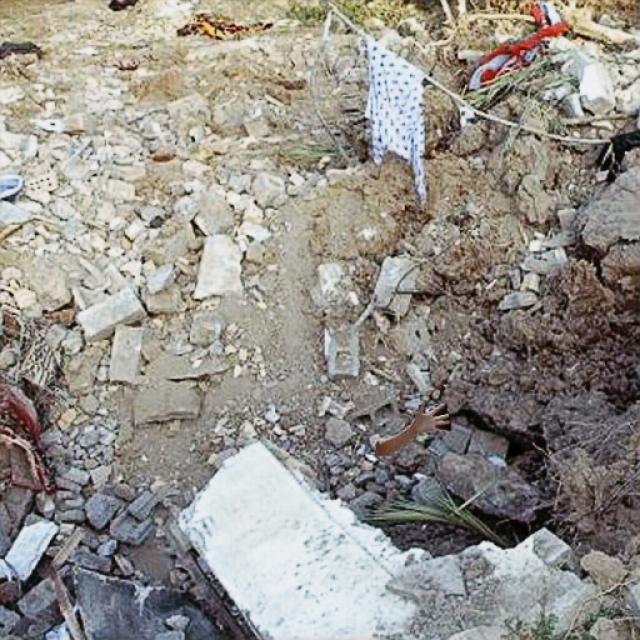Person in Rubble: (374, 404, 450, 455)
